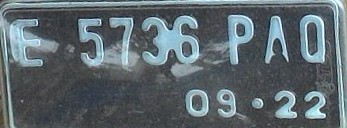plate: (1, 2, 339, 128)
